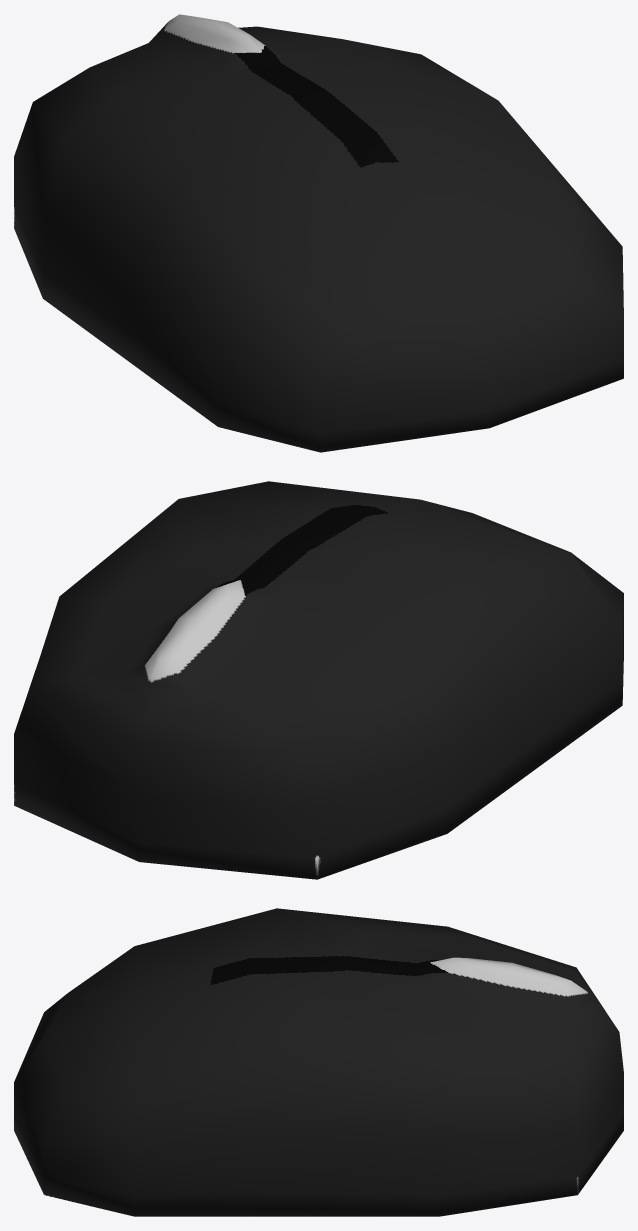
File: Mouse.FBX
3 views of the same model, one above another, from view 1: azimuth 30°, elevation 25°; view 2: azimuth 150°, elevation 25°; view 3: azimuth 270°, elevation 25° (orthographic). The views are drawn at different scales.
Visible parts, largest first — view 1: Mouse; view 2: Mouse; view 3: Mouse.
Part boxes in pixels (box(x1,y1,x2,y2)): Mouse: box(14, 14, 623, 452); Mouse: box(14, 481, 623, 879); Mouse: box(14, 908, 623, 1216).
Size of the model in its own units: 3.94 by 1.96 by 5.91.
Materials: 1 (1 with a texture image).
